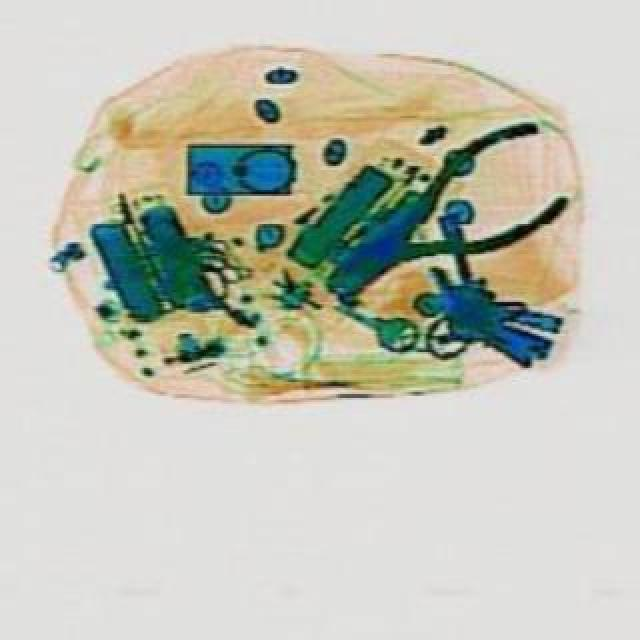wrench: (298, 104, 586, 330)
